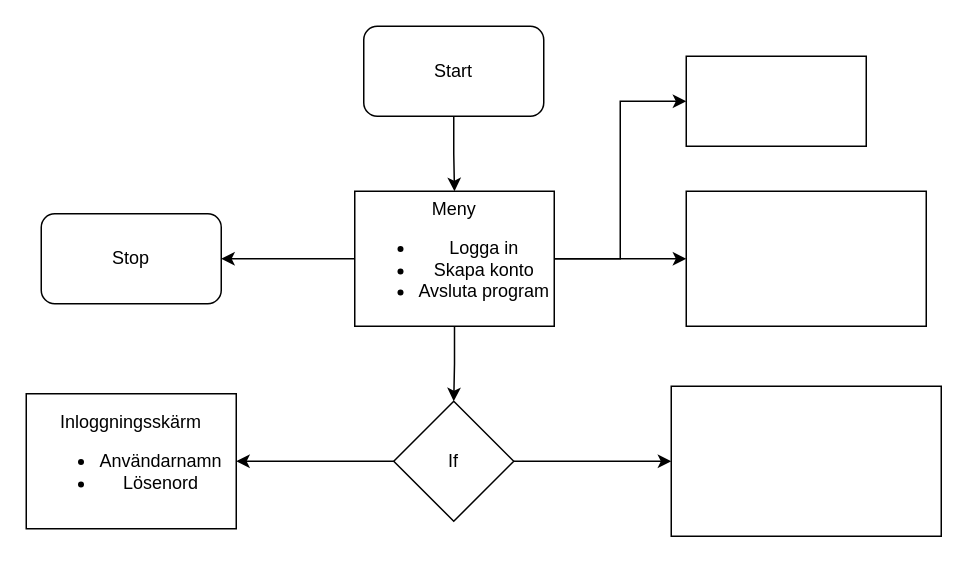
The diagram is 968 pixels wide and 563 high, and some of its shapes have lost their labels. Each missing label, with the centre of its shape:
"Avsluta program" belongs at point 775,100.
"Meny Visa konto(n) med grafer Skapa konto Insättning/Uttag Överföring" belongs at point 805,460.
"Skapa konto Input användarnamn och lösenord Spara i fil" belongs at point 805,258.
